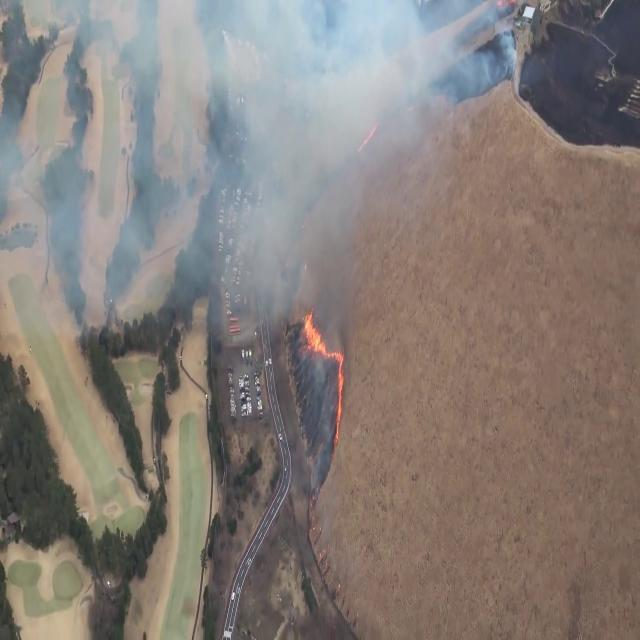Fire: (298, 304, 346, 376)
Smoke: (106, 0, 447, 291)
